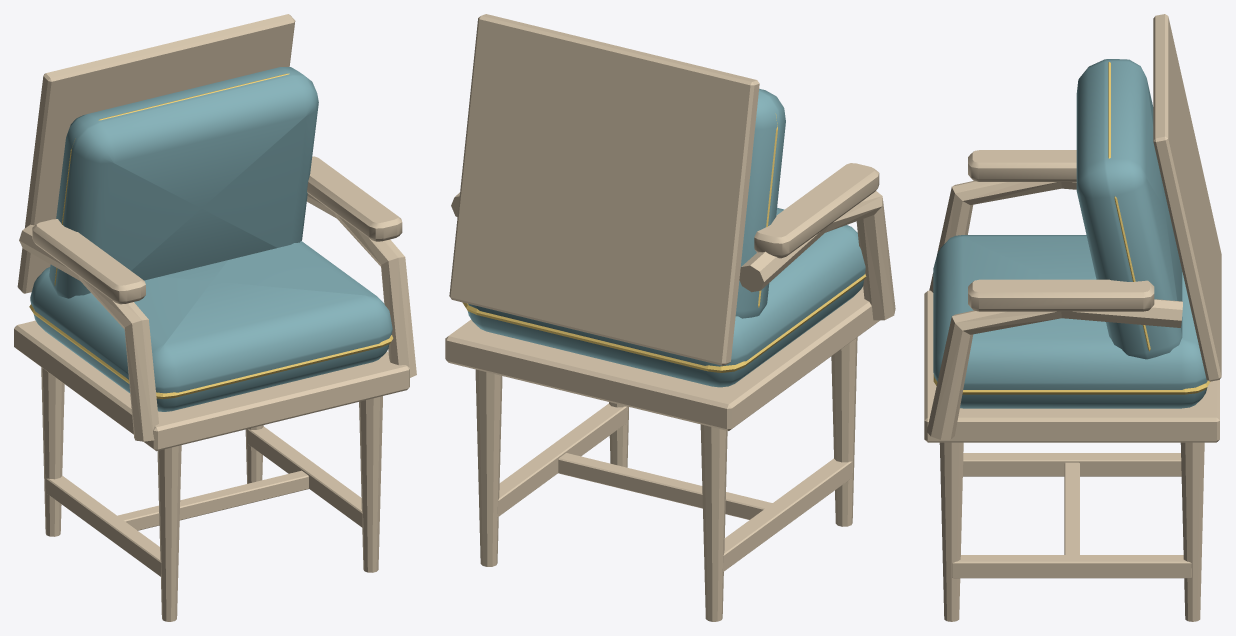
Rendered from clinic-and-veterinary-practice-waiting-armchair-a71bcc69__16720.glb.
3 views of the same model, side by side, from view 1: azimuth 30°, elevation 25°; view 2: azimuth 150°, elevation 25°; view 3: azimuth 270°, elevation 25° (orthographic). The views are drawn at different scales.
Visible parts, largest first — view 1: waiting-armchair; view 2: waiting-armchair; view 3: waiting-armchair.
Part boxes in pixels (bbox=[...]): waiting-armchair: bbox=[14, 14, 416, 621]; waiting-armchair: bbox=[445, 14, 895, 621]; waiting-armchair: bbox=[924, 14, 1221, 621].
Bounding box in the file's own units: 0.63 × 0.9918 × 0.5427.
